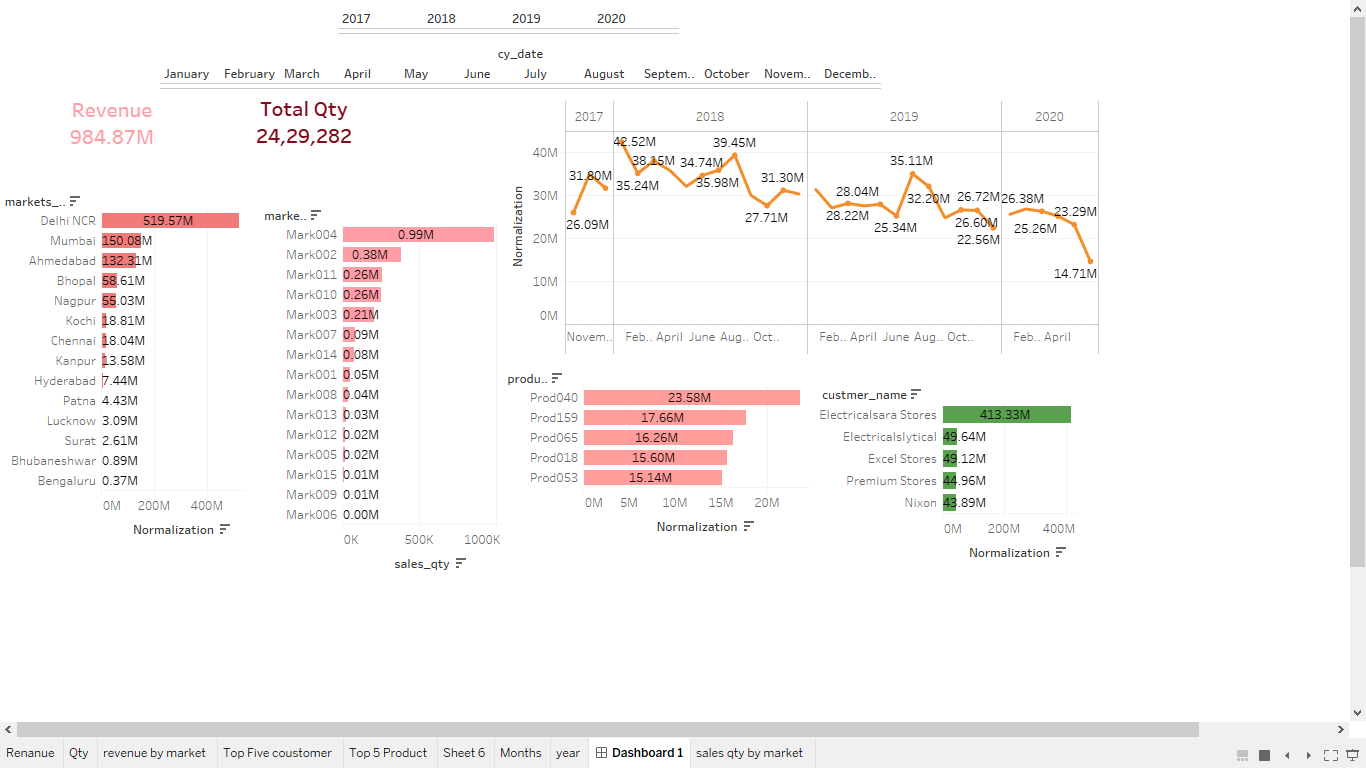

What the dashboard file says about the page in this screenshot:
{"tool":"tableau","page":{"name":"Dashboard 1","canvas":[1500,900],"ordinal":0},"visuals":[{"type":"worksheet","title":"year","mark":"Automatic","cols":["cy_date"],"box":[338,8,367,40]},{"type":"worksheet","title":"Months","mark":"Automatic","cols":["cy_date"],"box":[160,43,740,65]},{"type":"worksheet","title":"Qty","mark":"Automatic","box":[235,94,190,62]},{"type":"worksheet","title":"Renanue","mark":"Automatic","box":[4,95,225,86]},{"type":"worksheet","title":"Sheet 6","mark":"Automatic","rows":["Calculation_980940360546332672"],"cols":["cy_date","cy_date"],"box":[502,101,597,254]},{"type":"worksheet","title":"revenue by market","mark":"Automatic","rows":["markets_name"],"cols":["Calculation_980940360546332672"],"box":[1,190,245,425]},{"type":"worksheet","title":"sales qty by market","mark":"Automatic","rows":["market_code"],"cols":["sales_qty"],"box":[262,204,240,384]},{"type":"worksheet","title":"Top 5 Product","mark":"Automatic","rows":["product_code (products)"],"cols":["Calculation_980940360546332672"],"box":[503,367,308,211]},{"type":"worksheet","title":"Top Five coustomer","mark":"Automatic","rows":["custmer_name"],"cols":["Calculation_980940360546332672"],"box":[810,383,267,201]}]}

Visuals, with their boxes on the page's 1500x900 design canvas (x1, y1, x2, y2). These are canvas units, not pixel positions in the 1366x768 screenshot, which may show the page scaled, cropped or inside an application window:
"year" worksheet: [338, 8, 705, 48]
"Months" worksheet: [160, 43, 900, 108]
"Qty" worksheet: [235, 94, 425, 156]
"Renanue" worksheet: [4, 95, 229, 181]
"Sheet 6" worksheet: [502, 101, 1099, 355]
"revenue by market" worksheet: [1, 190, 246, 615]
"sales qty by market" worksheet: [262, 204, 502, 588]
"Top 5 Product" worksheet: [503, 367, 811, 578]
"Top Five coustomer" worksheet: [810, 383, 1077, 584]
